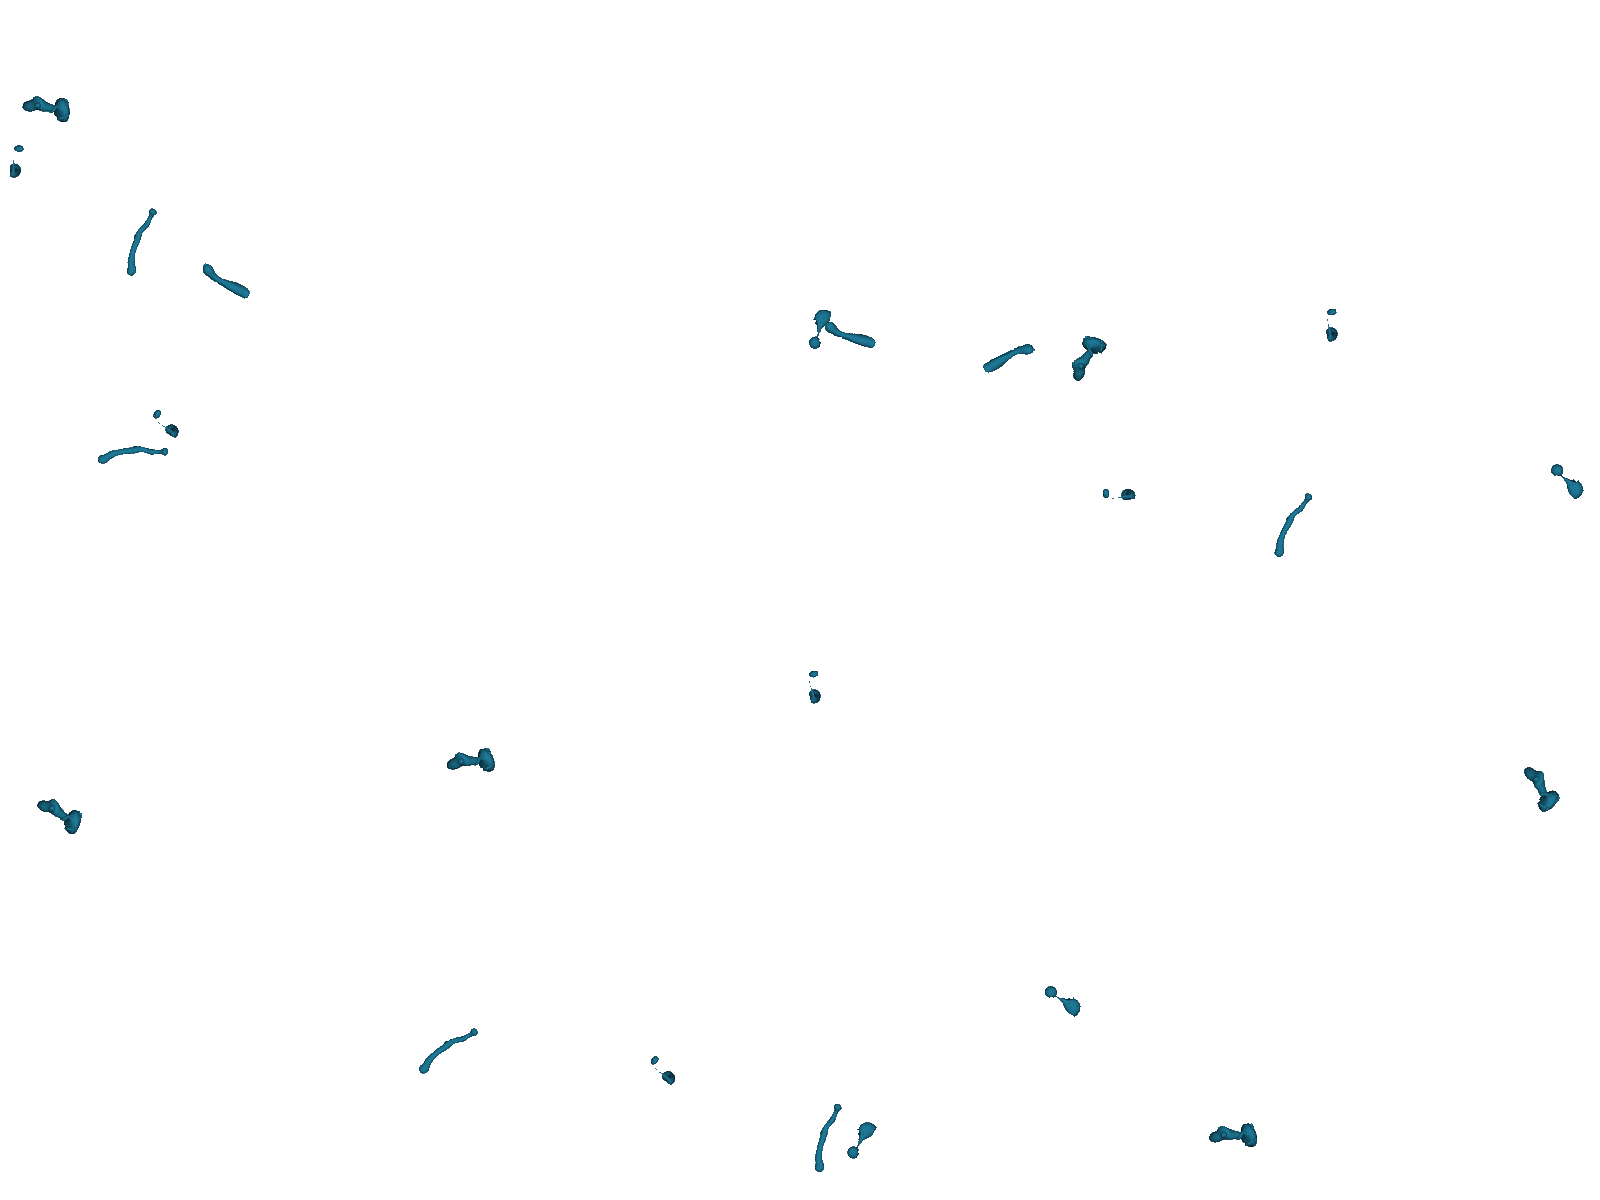Detached ligament: (1259, 489, 1325, 562), (111, 204, 170, 281), (799, 1100, 855, 1177), (408, 1024, 486, 1076), (1514, 758, 1566, 816), (30, 789, 88, 838), (1062, 330, 1110, 388), (197, 258, 256, 304), (978, 338, 1038, 379), (820, 316, 881, 353), (94, 440, 170, 469), (1545, 458, 1590, 502), (1039, 979, 1087, 1018), (443, 744, 496, 779), (842, 1116, 879, 1163), (19, 91, 73, 124), (1206, 1121, 1259, 1151), (145, 406, 186, 440), (804, 305, 833, 353), (643, 1053, 683, 1087), (799, 666, 830, 706), (1317, 304, 1347, 344), (1099, 480, 1138, 508), (5, 141, 29, 180)
